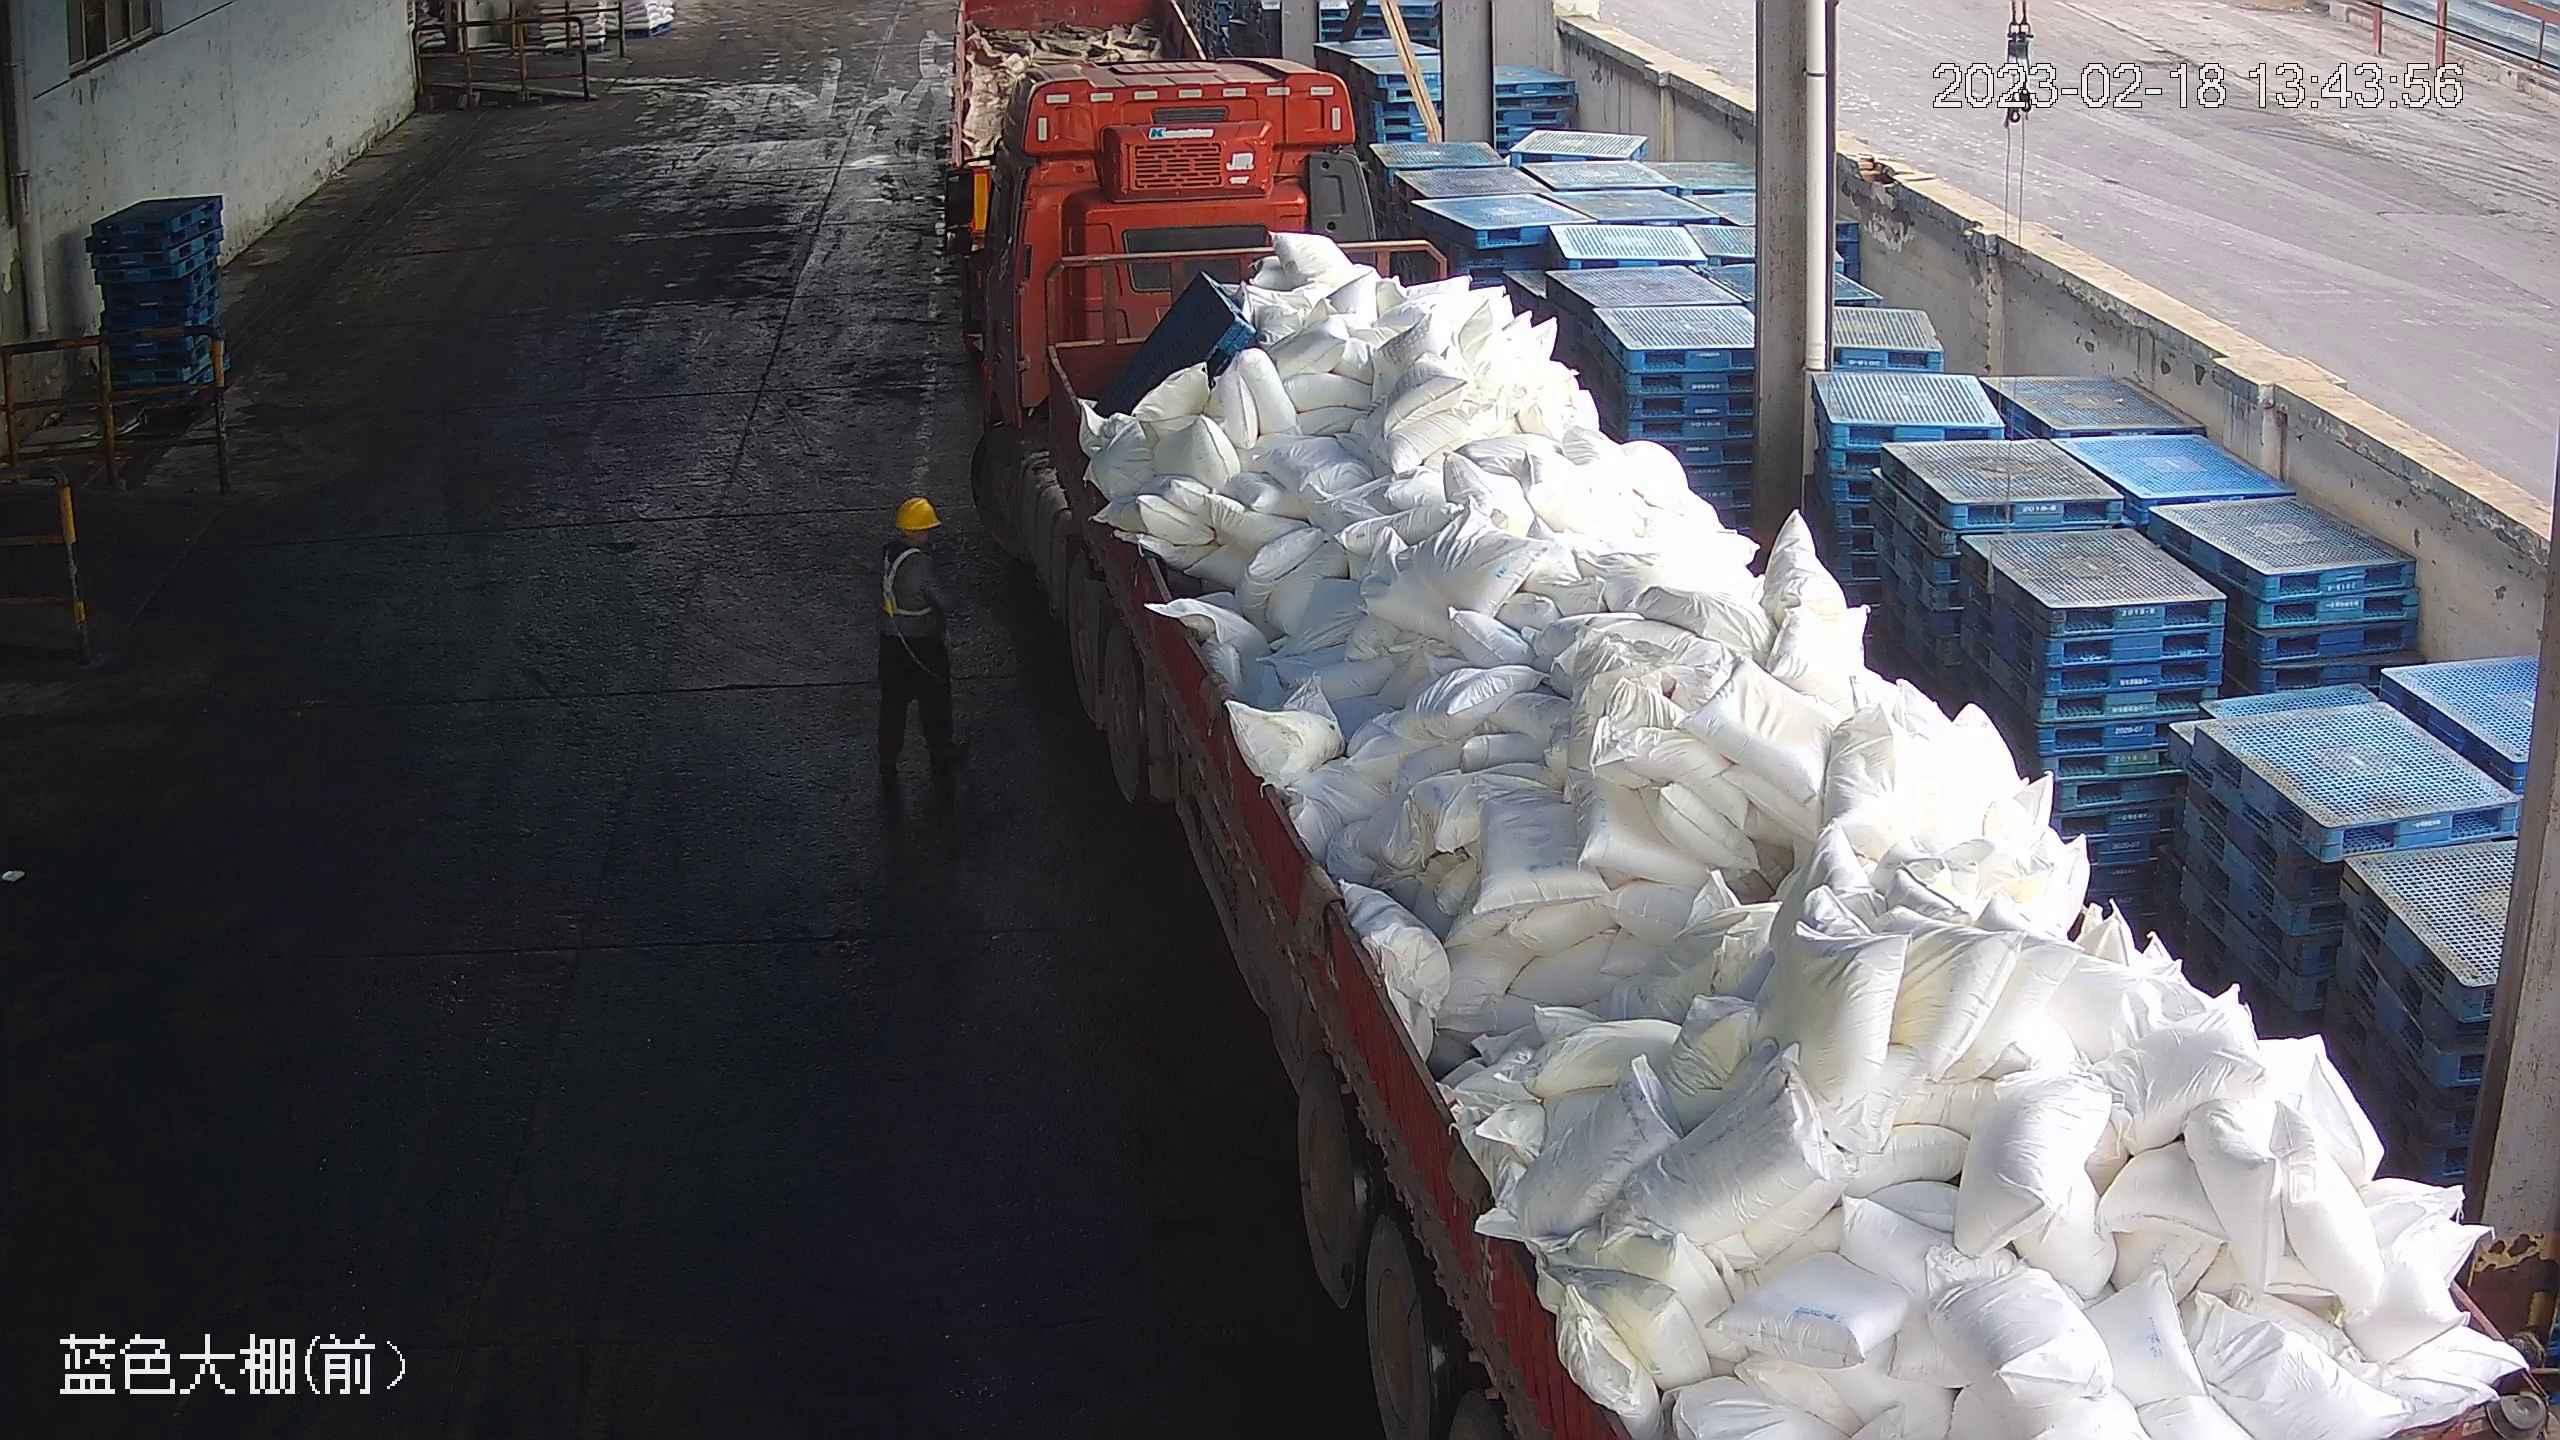belt: (873, 549, 938, 617)
head: (882, 494, 943, 570)
helmet: (894, 497, 940, 530)
people: (875, 496, 965, 781)
truck: (963, 62, 2560, 1440)
